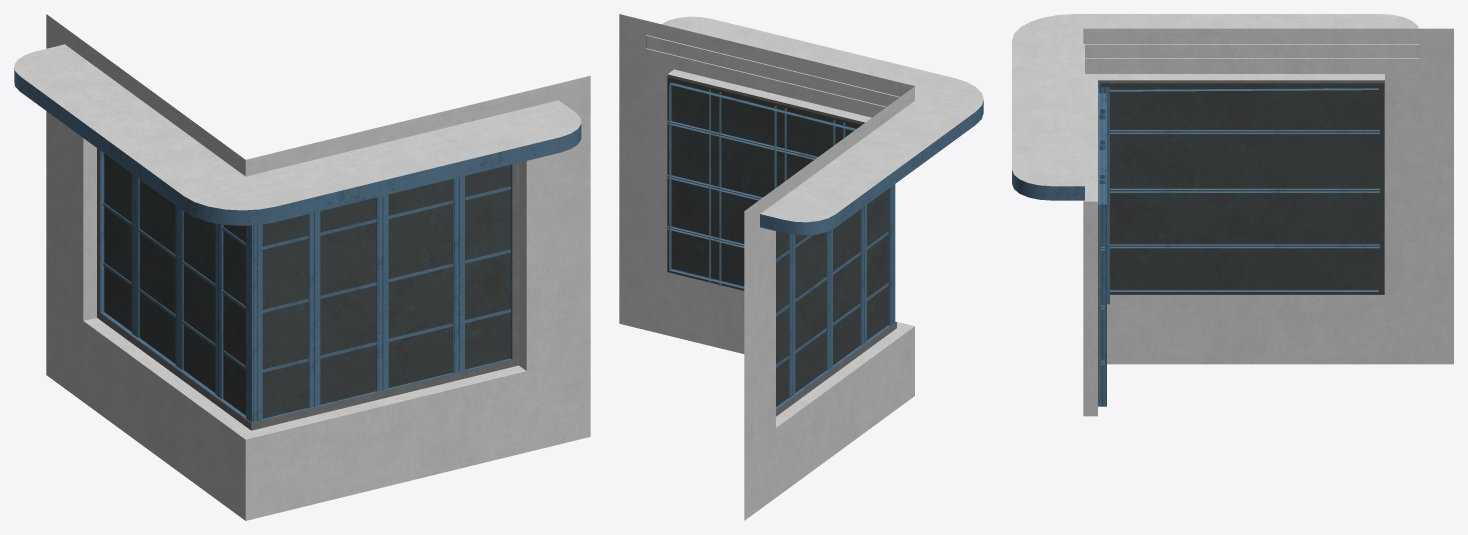
File: MB_Wall_Window_B_02.fbx
3 renders of one model, left to right at view 1: azimuth 30°, elevation 25°; view 2: azimuth 150°, elevation 25°; view 3: azimuth 270°, elevation 25°, orthographic. The views are drawn at different scales.
Parts seen in each view (by area): view 1: MB_Wall_Window_B_02_LOD0; view 2: MB_Wall_Window_B_02_LOD0; view 3: MB_Wall_Window_B_02_LOD0.
Part boxes in pixels (x1,y1,x2,y2): MB_Wall_Window_B_02_LOD0: [14, 14, 590, 520]; MB_Wall_Window_B_02_LOD0: [619, 14, 983, 520]; MB_Wall_Window_B_02_LOD0: [1012, 14, 1453, 416].
Size of what is drawn, in the model's own units: 477 by 400 by 477.
